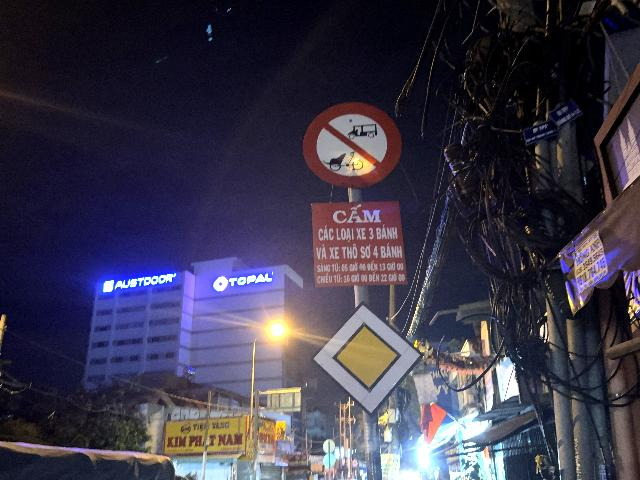bat-dau-duong-uu-tien: (310, 299, 425, 417)
cam-xe-3-banh-xe-tho-so-4-banh: (302, 101, 403, 189)
